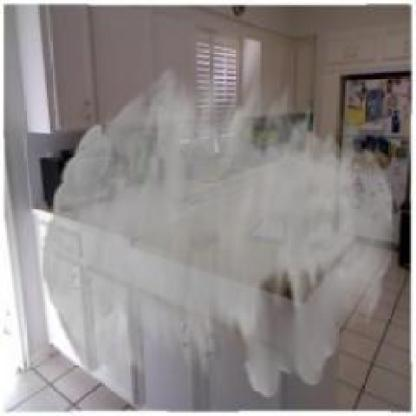Smoke: (43, 63, 396, 398)
